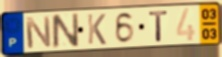4: (175, 7, 198, 42)
6: (114, 12, 136, 45)
K: (86, 13, 107, 46)
N: (50, 12, 81, 50), (24, 15, 54, 50)
T: (148, 9, 170, 43)
